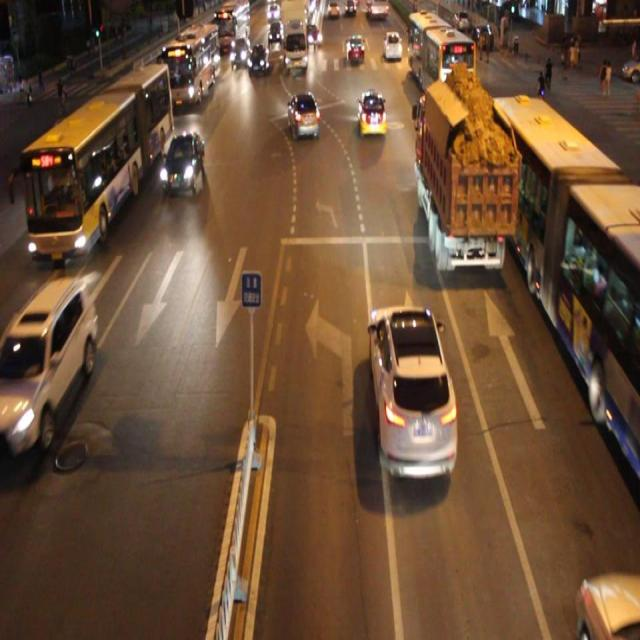bus: (418, 84, 509, 268)
car: (1, 275, 96, 456), (369, 304, 456, 478), (573, 569, 640, 640), (162, 132, 205, 190), (48, 119, 91, 176), (287, 90, 320, 140), (357, 89, 386, 139)
van: (490, 95, 640, 462), (23, 65, 168, 260)
